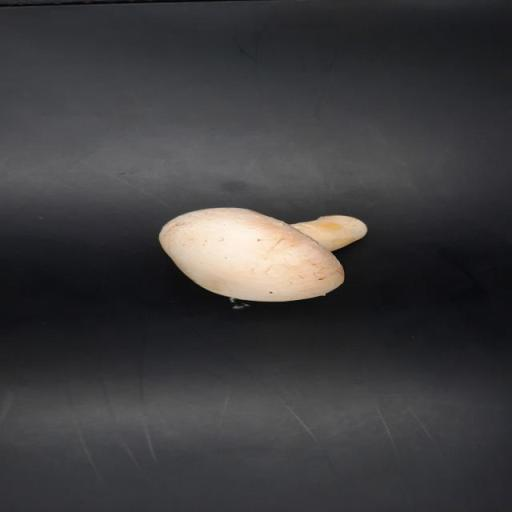Button Mushroom: (153, 202, 367, 313)
